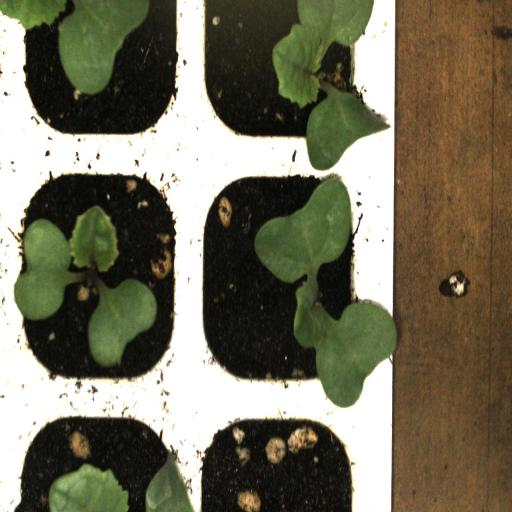seedling: (191, 156, 376, 406), (11, 153, 189, 396), (190, 0, 378, 155), (11, 0, 190, 151)
